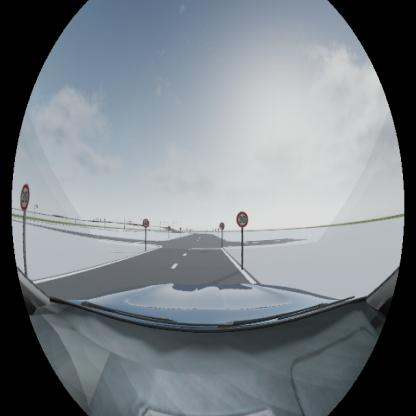Speed Limit 30: (236, 211, 248, 227)
